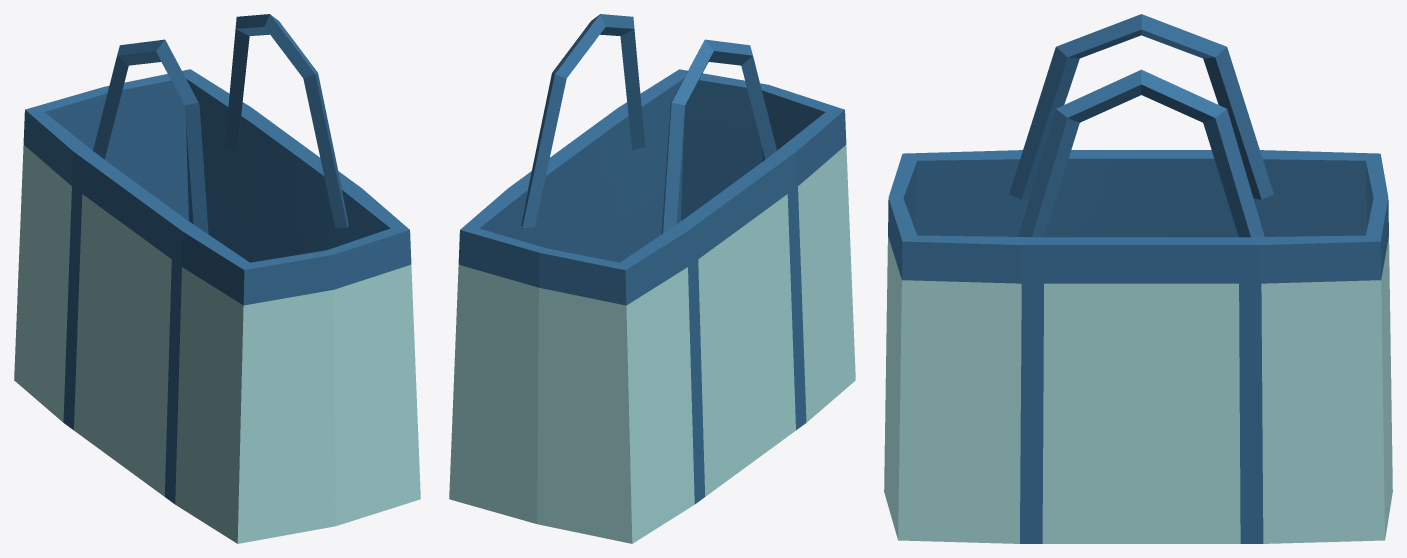
File: beach_beach-bag.fbx
The picture shows the model from 3 angles, left to right: view 1: azimuth 30°, elevation 25°; view 2: azimuth 150°, elevation 25°; view 3: azimuth 270°, elevation 25°; orthographic projection. The views are drawn at different scales.
Parts seen in each view (by area): view 1: beach_beach_bag; view 2: beach_beach_bag; view 3: beach_beach_bag.
Boxes of the visible parts, x1,y1,x2,y2 form: beach_beach_bag: [14, 14, 420, 543]; beach_beach_bag: [449, 14, 855, 543]; beach_beach_bag: [884, 14, 1392, 543].
Size of the model in its own units: 97.06 by 195 by 200.
